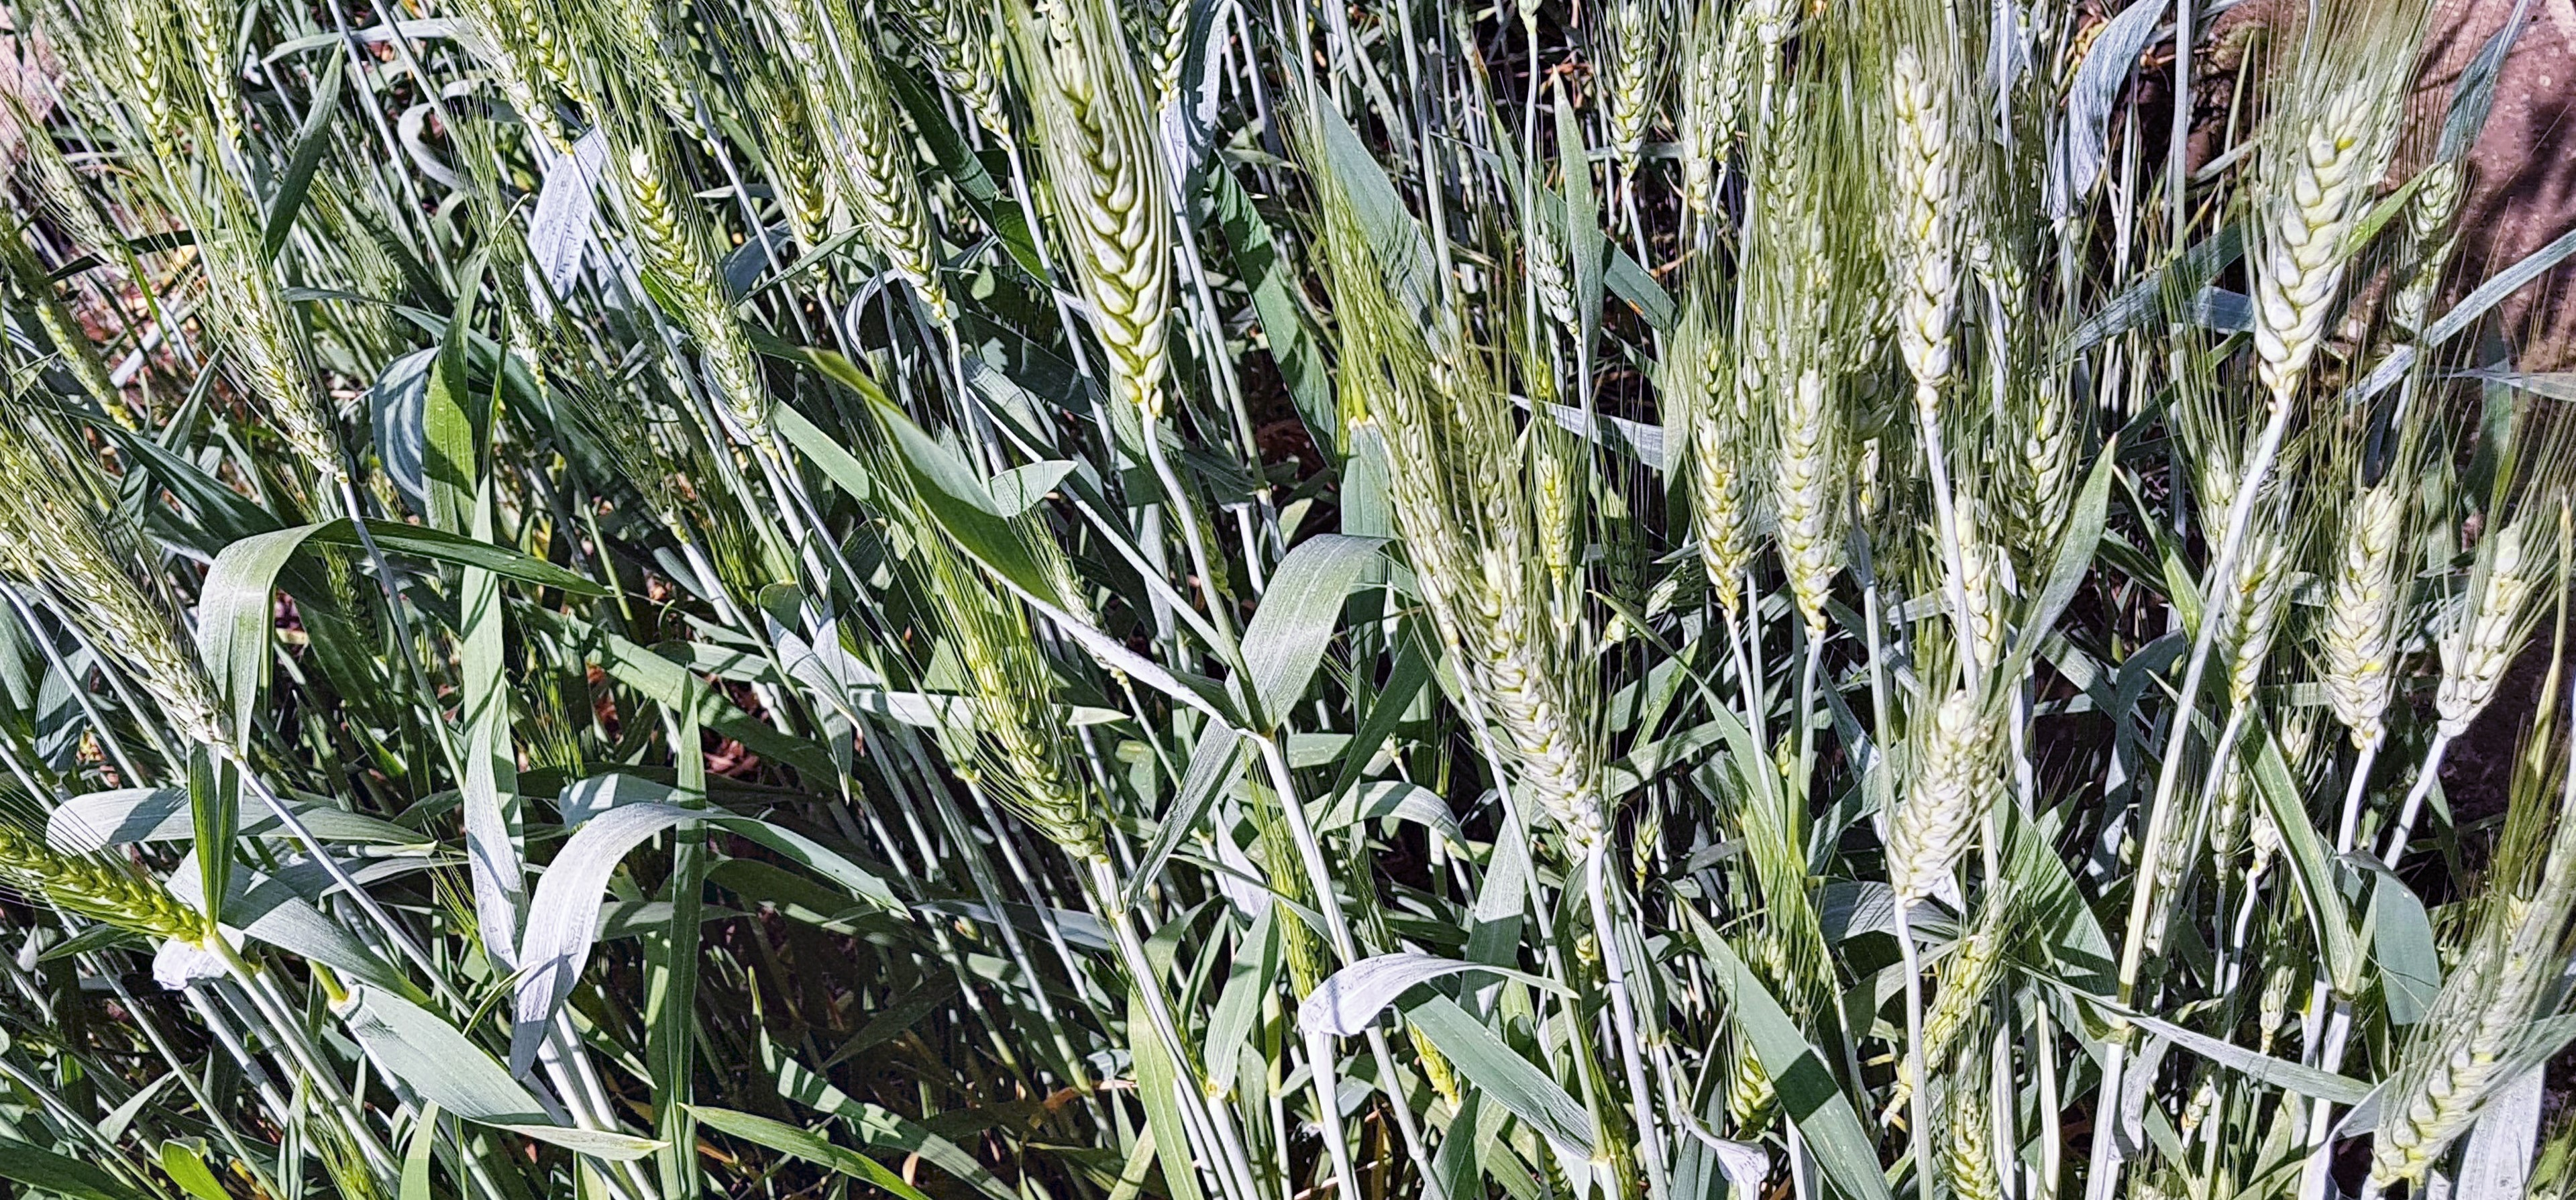Healthy Wheat: (2303, 469, 2551, 762), (2239, 53, 2405, 394), (1033, 59, 1186, 404), (1865, 663, 2026, 939), (1488, 644, 1672, 868)
